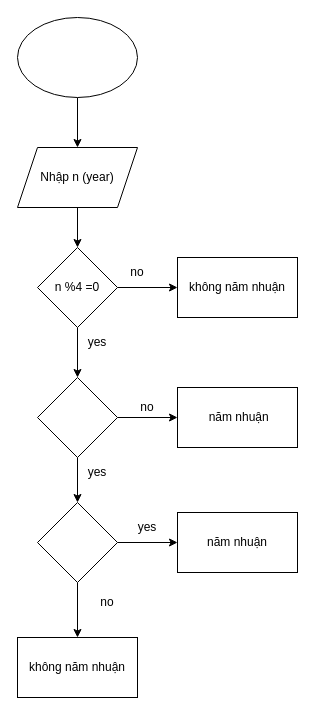
The diagram is 315 pixels wide and 715 high, and some of its shapes have lost their labels. The shapes that lost their labels are listed below. From the top down, each one's centre as x and y in pixels, then its label:
At pixel 77 57: "Bắt đầu".
At pixel 77 417: "n %100 =0".
At pixel 77 542: "n%400=0".
